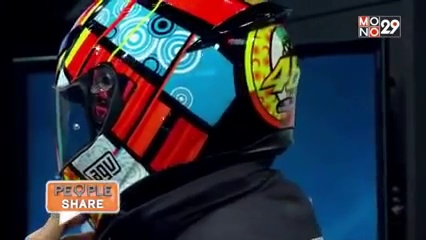helmet: (40, 2, 321, 178)
